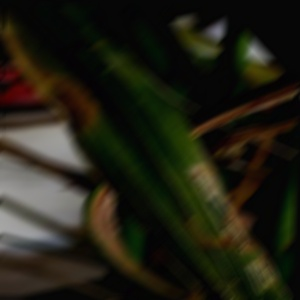Leaf_Blast: (18, 7, 166, 183)
